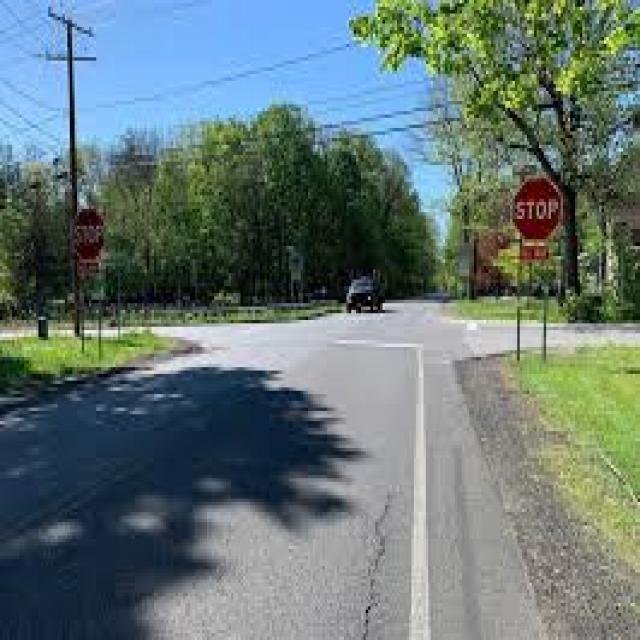stop-sign: (506, 172, 587, 238), (66, 196, 133, 243)
